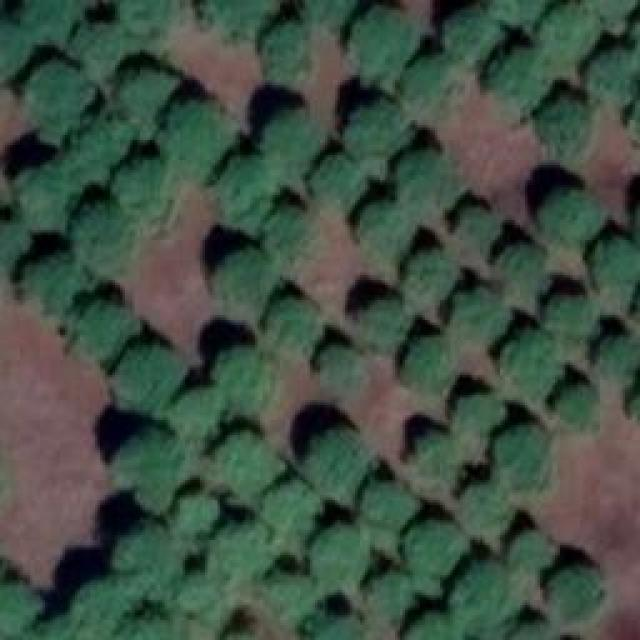Tree: (450, 560, 523, 633), (115, 425, 198, 488), (25, 63, 98, 133), (168, 103, 243, 168), (213, 243, 278, 318), (350, 5, 415, 80), (490, 48, 558, 118), (305, 428, 370, 501), (110, 345, 185, 408), (112, 520, 180, 585), (20, 162, 83, 230), (500, 327, 563, 395), (220, 430, 285, 493), (72, 110, 130, 178), (345, 95, 413, 153), (540, 98, 600, 163), (265, 295, 328, 355), (68, 302, 133, 360), (217, 155, 275, 220), (312, 520, 370, 585), (403, 55, 468, 113), (222, 350, 290, 405), (260, 482, 315, 550), (400, 150, 463, 208), (535, 0, 600, 55), (498, 425, 553, 488), (360, 195, 415, 258), (80, 205, 138, 263), (77, 575, 135, 633), (167, 582, 225, 640), (128, 153, 181, 216), (258, 570, 318, 625), (450, 288, 510, 343), (120, 68, 178, 123), (27, 255, 85, 310), (352, 295, 410, 350), (268, 205, 328, 258), (400, 338, 460, 391), (260, 110, 318, 163), (363, 567, 416, 625), (407, 520, 465, 573), (460, 477, 513, 535), (403, 247, 456, 305), (553, 565, 608, 620), (313, 153, 368, 208), (498, 245, 553, 300), (540, 190, 600, 240), (203, 535, 263, 583), (445, 12, 505, 60), (255, 25, 303, 83), (455, 388, 505, 443), (118, 0, 173, 50), (17, 0, 82, 42), (173, 483, 226, 533), (363, 477, 418, 525), (410, 433, 460, 483), (587, 237, 640, 284), (0, 582, 42, 639), (213, 0, 276, 38), (173, 388, 228, 431), (508, 528, 561, 571), (592, 335, 640, 380), (305, 610, 375, 640), (592, 53, 640, 96), (560, 385, 605, 430), (548, 293, 598, 333), (315, 348, 360, 391), (75, 25, 120, 68), (0, 25, 30, 85), (460, 210, 503, 248), (405, 612, 460, 640), (310, 0, 355, 30), (0, 225, 28, 273), (23, 620, 88, 640), (502, 625, 560, 640)
